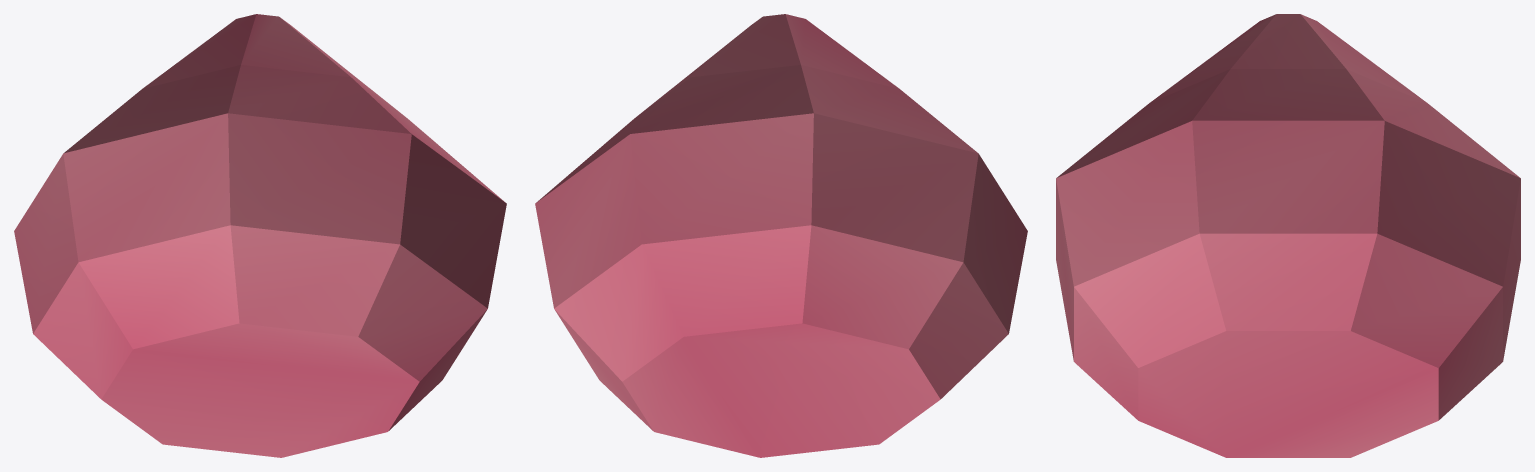
The model's file is token_ruby.glb.
3 views of the same model, side by side, from view 1: azimuth 30°, elevation 25°; view 2: azimuth 150°, elevation 25°; view 3: azimuth 270°, elevation 25° (orthographic).
Parts seen in each view (by area): view 1: Ruby; view 2: Ruby; view 3: Ruby.
Part boxes in pixels (x1,y1,x2,y2): Ruby: (14, 14, 506, 457); Ruby: (535, 14, 1027, 457); Ruby: (1056, 14, 1520, 457).
Bounding box in the file's own units: 1.2 × 1.05 × 1.2.
